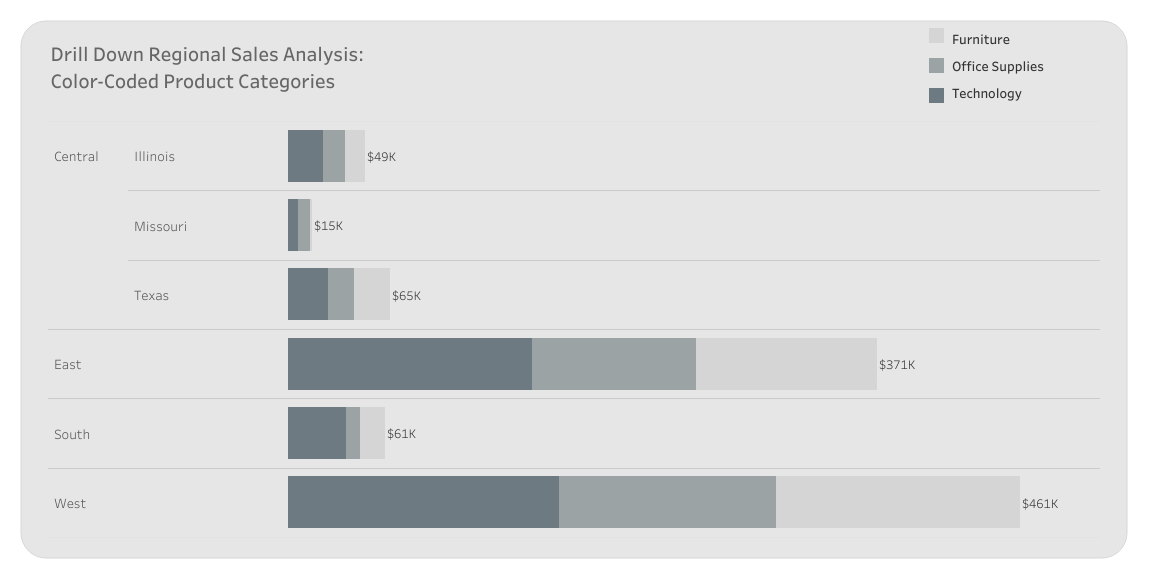

The page's visual inventory and layout, read from the dashboard file:
{"tool":"tableau","page":{"name":"Dashboard 1","canvas":[1150,580],"ordinal":0},"visuals":[{"type":"worksheet","title":"box","mark":"Automatic","box":[0,0,1150,580]},{"type":"worksheet","title":"Colors","mark":"Automatic","rows":["Category"],"box":[915,20,43,91]},{"type":"worksheet","title":"Name","mark":"Automatic","rows":["Category"],"box":[946,25,115,81]},{"type":"text","box":[48,33,382,68]},{"type":"blank","box":[48,108,1058,19]},{"type":"worksheet","title":"Sheet 3","mark":"Automatic","rows":["Region","Calculation_828662369676587016","Calculation_828662369678106634"],"cols":["Sales"],"box":[48,121,1052,417]},{"type":"blank","box":[27,529,1092,12]}]}

Visuals, with their boxes in screenshot pixels (x1, y1, x2, y2), scaled from the page's 1150x580 canvas onto the 1149x579 screenshot:
"box" worksheet: bbox=[0, 0, 1148, 578]
"Colors" worksheet: bbox=[914, 20, 957, 111]
"Name" worksheet: bbox=[945, 25, 1060, 106]
text: bbox=[48, 33, 430, 101]
blank: bbox=[48, 108, 1105, 127]
"Sheet 3" worksheet: bbox=[48, 121, 1099, 537]
blank: bbox=[27, 528, 1118, 540]
